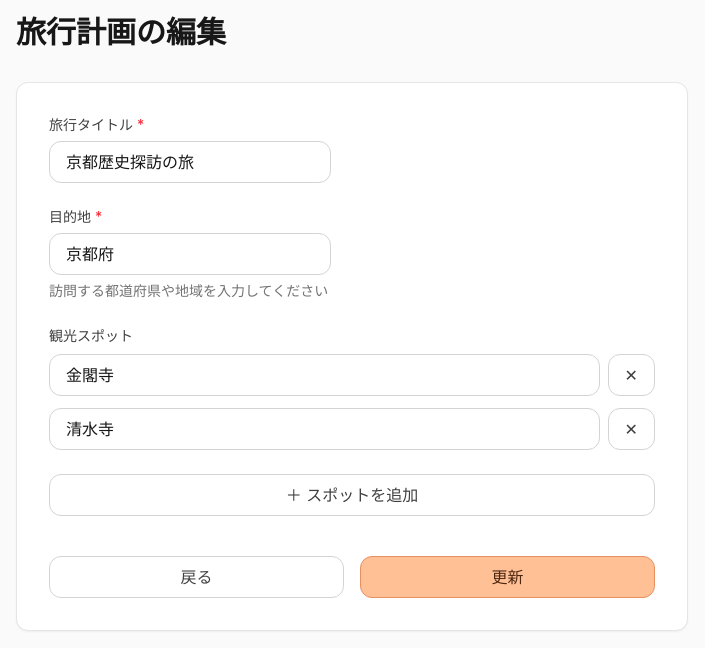
TravelEditPage › バリデーション › 目的地が空の場合はエラーツールチップが表示される
Step 1. Clear the field showing "京都府" → x=190, y=254, box top-left (49, 233), bottom-right (331, 275)
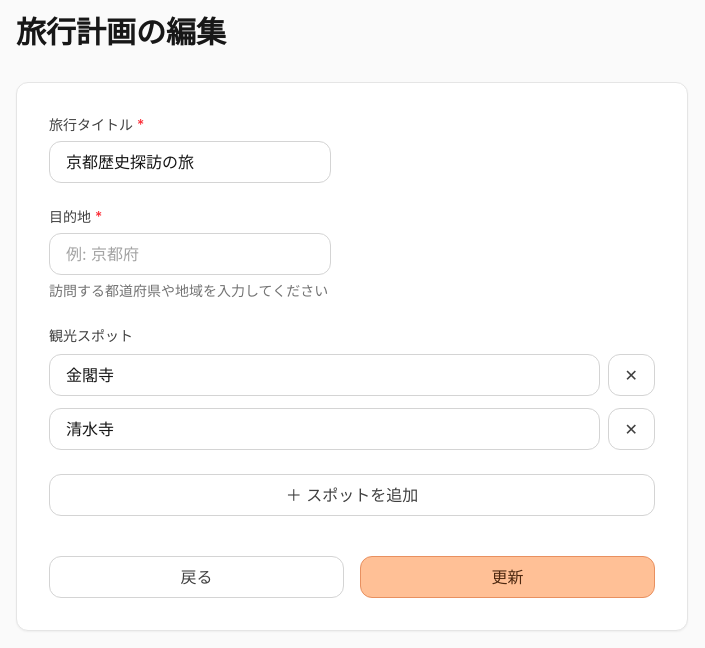
Step 2. Click the button "更新" → x=508, y=577, box top-left (360, 556), bottom-right (655, 598)
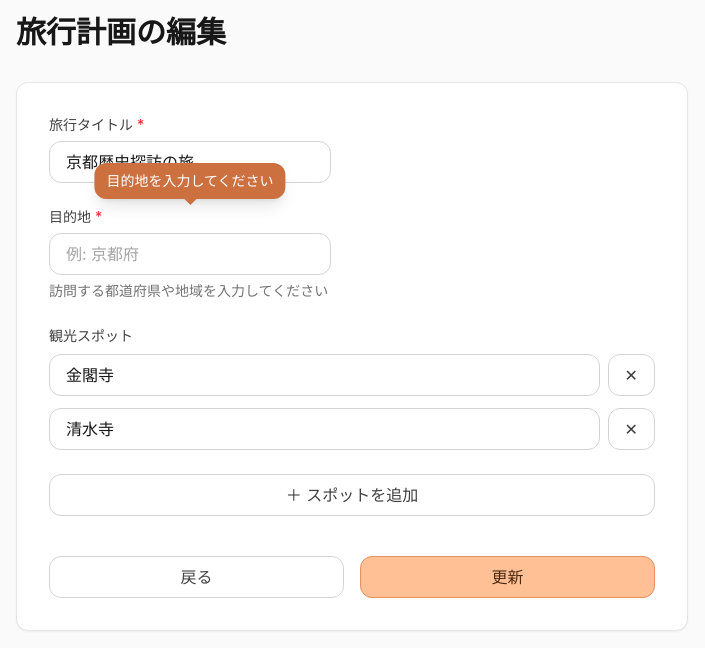
Now the tooltip "目的地を入力してください" is shown, box top-left (94, 163), bottom-right (286, 199)
